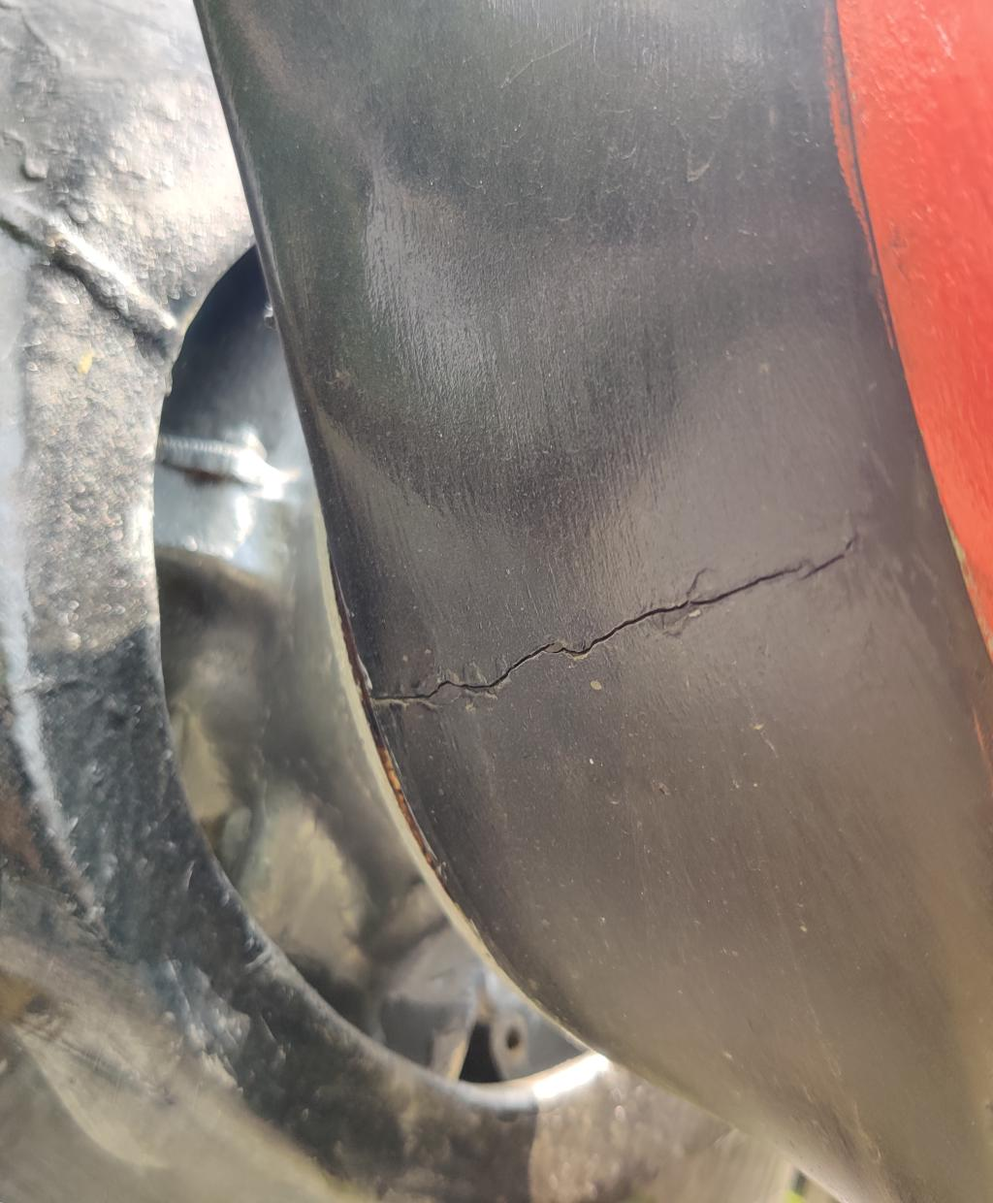crack: (351, 481, 881, 798)
